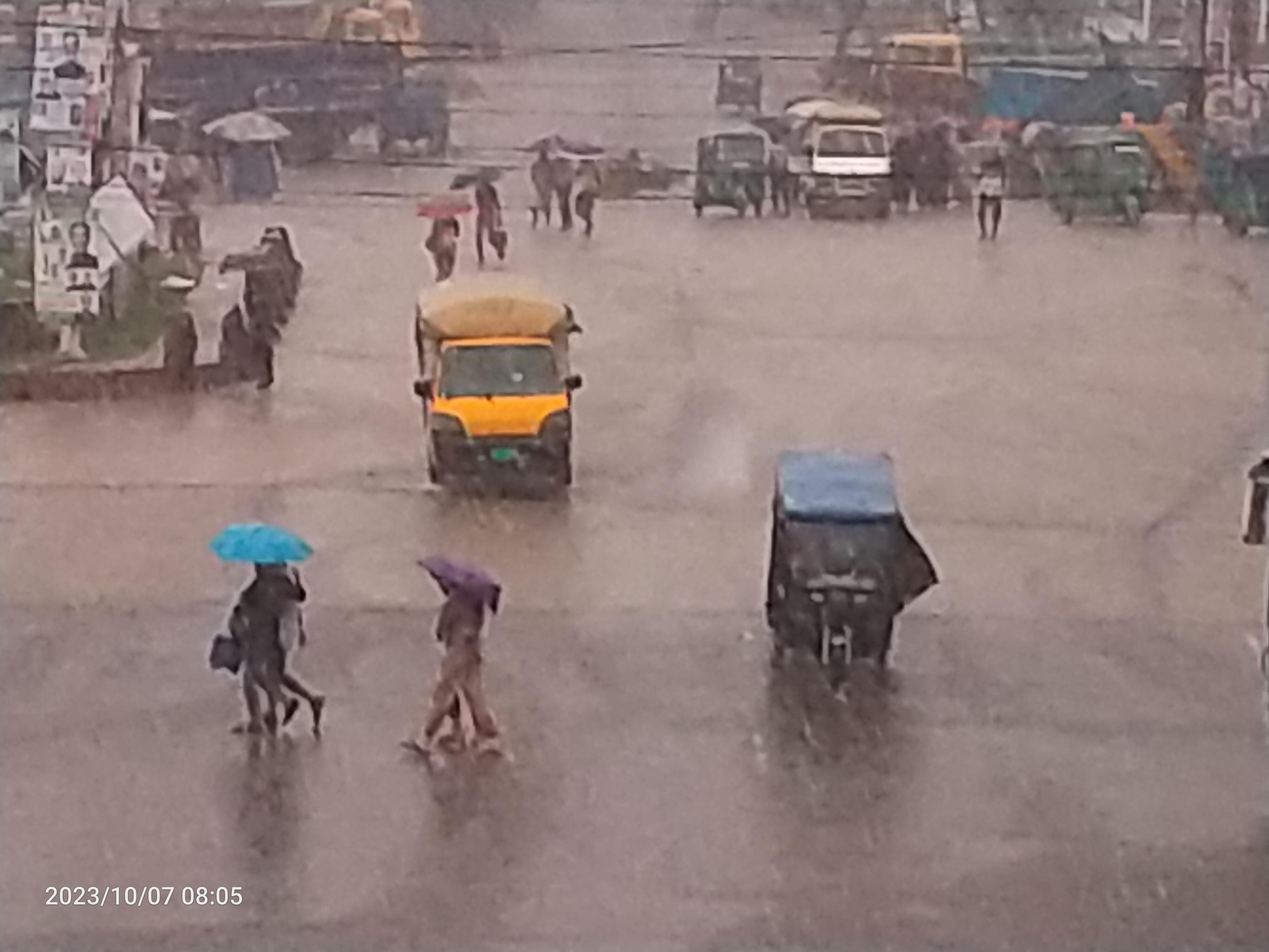Car: (743, 424, 977, 717), (388, 229, 595, 507), (784, 78, 906, 240)
Truck: (77, 0, 412, 157)
